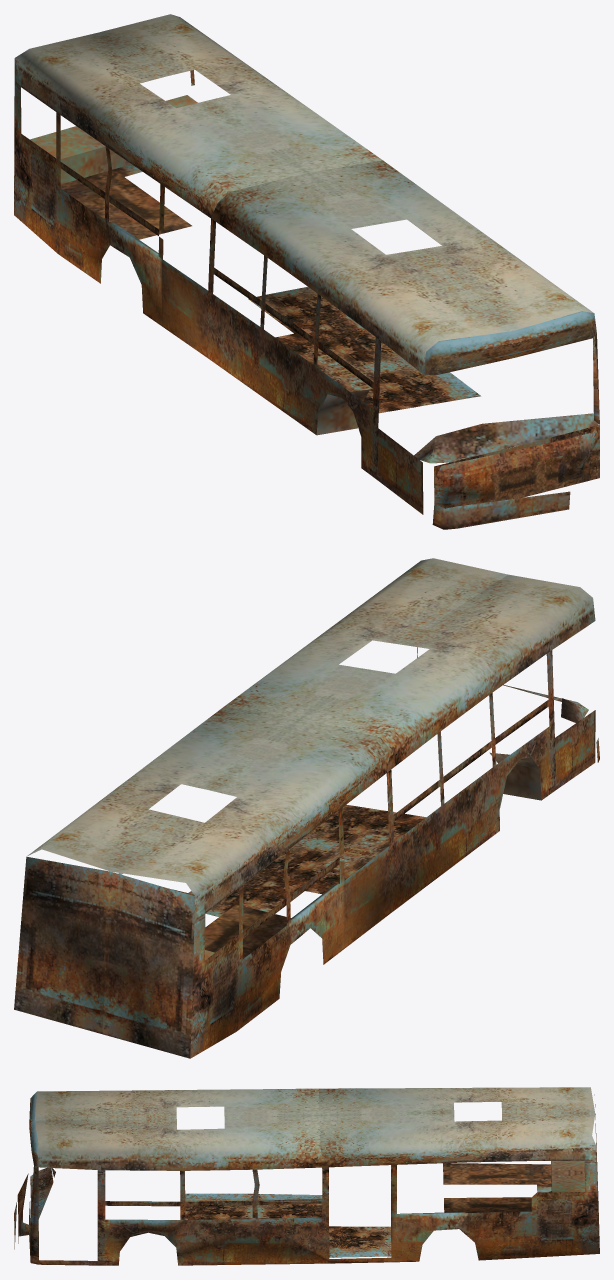
Rendered from Prop_Wj035_lod2.glb.
3 renders of one model, top to bottom at view 1: azimuth 30°, elevation 25°; view 2: azimuth 150°, elevation 25°; view 3: azimuth 270°, elevation 25°, orthographic. The views are drawn at different scales.
Parts seen in each view (by area): view 1: xiutz_wj035_lod1; view 2: xiutz_wj035_lod1; view 3: xiutz_wj035_lod1.
Part boxes in pixels (<box>): xiutz_wj035_lod1: <box>14,14,599,529</box>; xiutz_wj035_lod1: <box>14,558,599,1058</box>; xiutz_wj035_lod1: <box>14,1087,599,1265</box>.
Bounding box in the file's own units: 4.11 × 4 × 16.37.
Materials: 1 (1 with a texture image).
